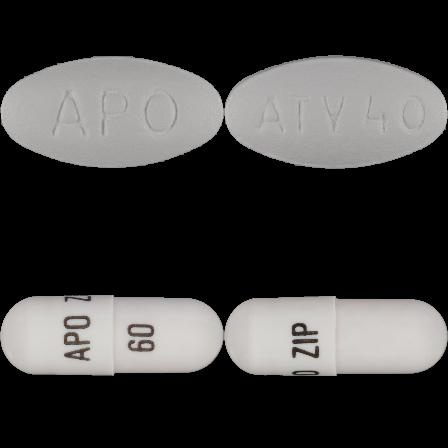68084-099: (0, 0, 224, 224)
